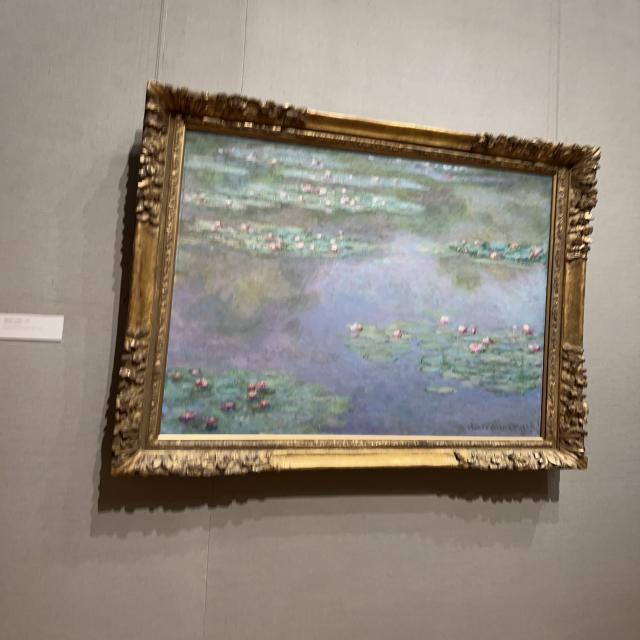lilies: (162, 133, 552, 434)
